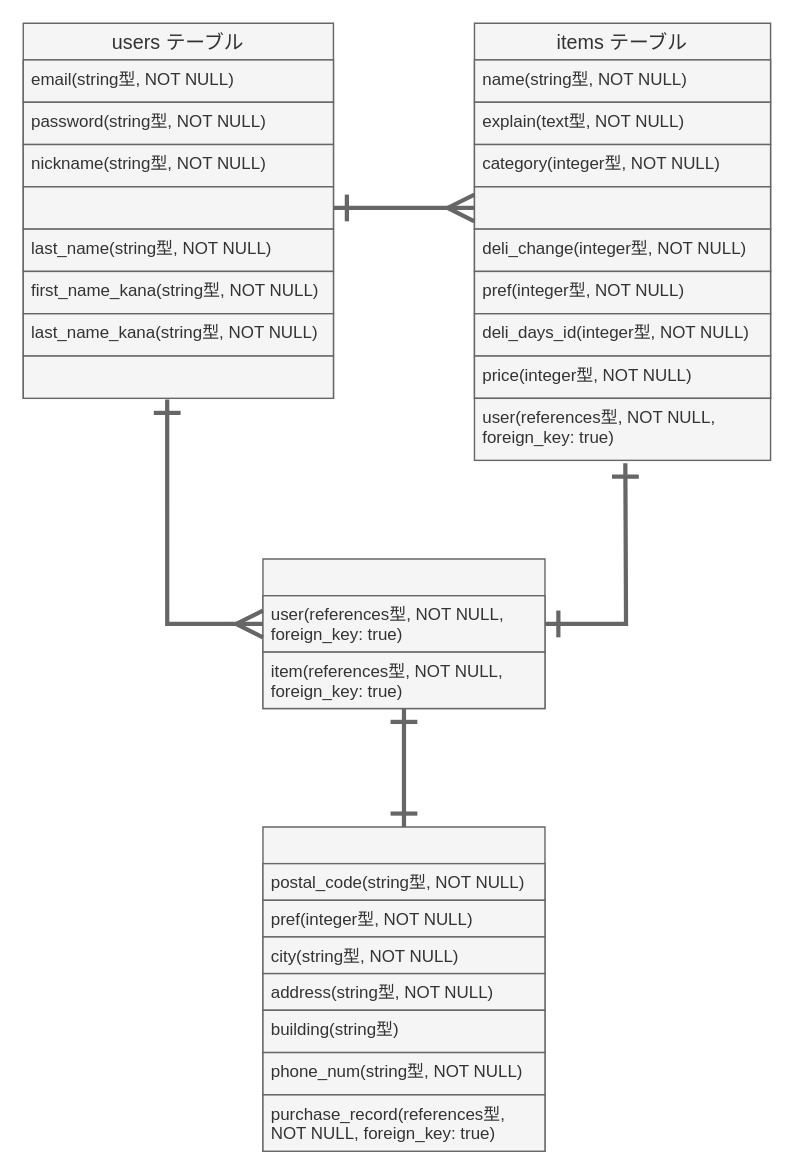
The diagram is 794 pixels wide and 1175 high, and some of its shapes have lost their labels. Each missing label, with the box of its shape:
birthday(integer型, NOT NULL): (22, 355, 333, 398)
delivery_addresses テーブル: (262, 826, 545, 1151)
first_name(string型, NOT NULL): (22, 185, 333, 229)
purchase_records テーブル: (262, 558, 545, 709)
status(integer型, NOT NULL): (473, 185, 771, 229)
